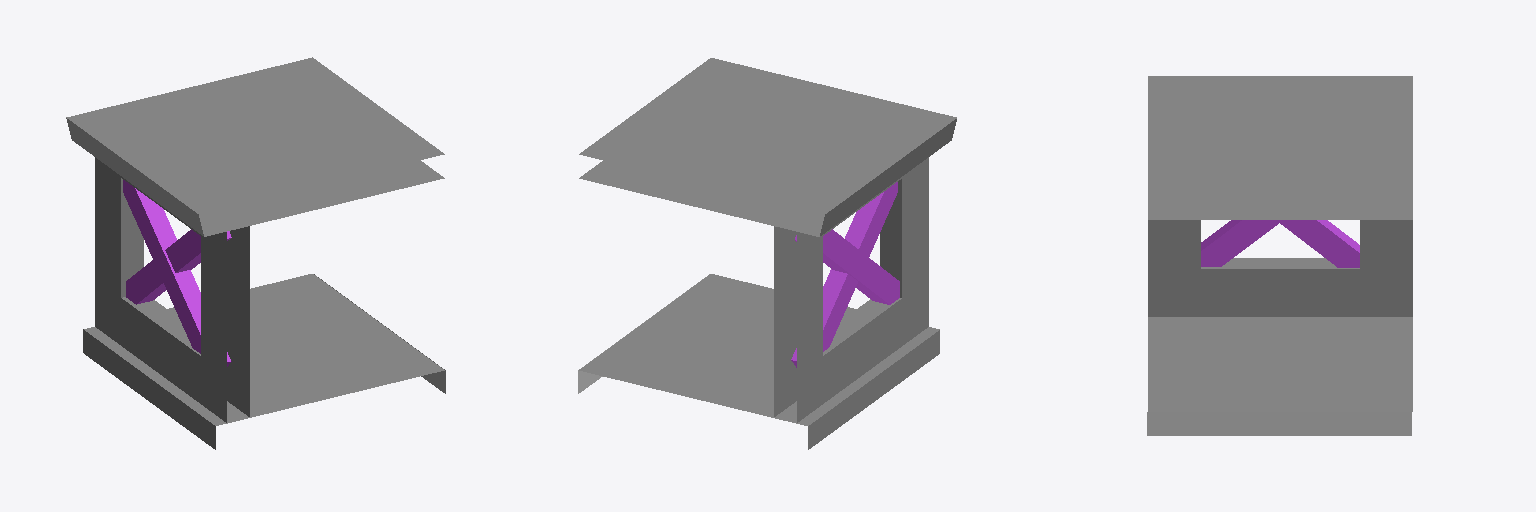
3 renders of one model, left to right at view 1: azimuth 30°, elevation 25°; view 2: azimuth 150°, elevation 25°; view 3: azimuth 270°, elevation 25°, orthographic.
Parts seen in each view (by area): view 1: objobjobjRegroup09; view 2: objobjobjRegroup09; view 3: objobjobjRegroup09.
Part boxes in pixels (left/top/right/bottom): objobjobjRegroup09: left=66, top=57, right=445, bottom=449; objobjobjRegroup09: left=578, top=58, right=956, bottom=449; objobjobjRegroup09: left=1147, top=76, right=1412, bottom=435.
Bounding box in the file's own units: 10.77 × 10 × 10.01.